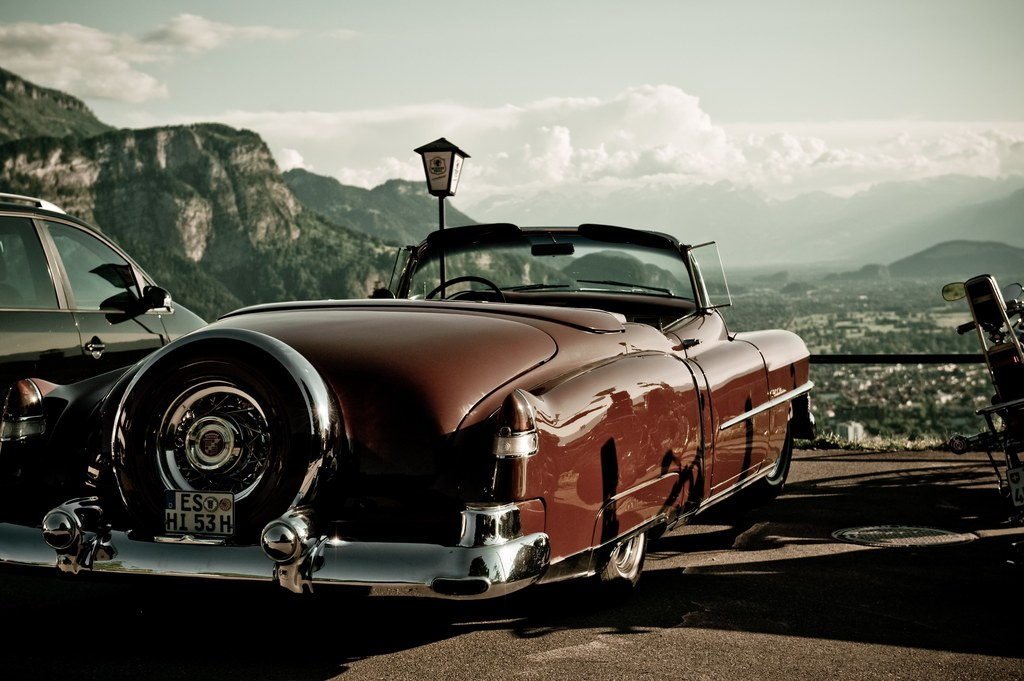mobil: (87, 220, 817, 620)
